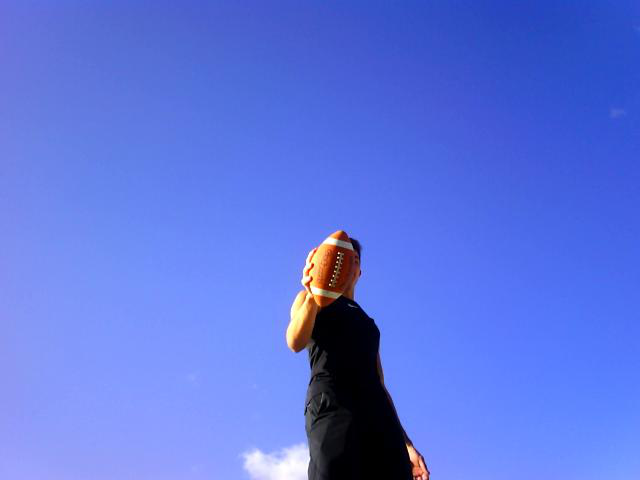footbal: (308, 230, 355, 308)
